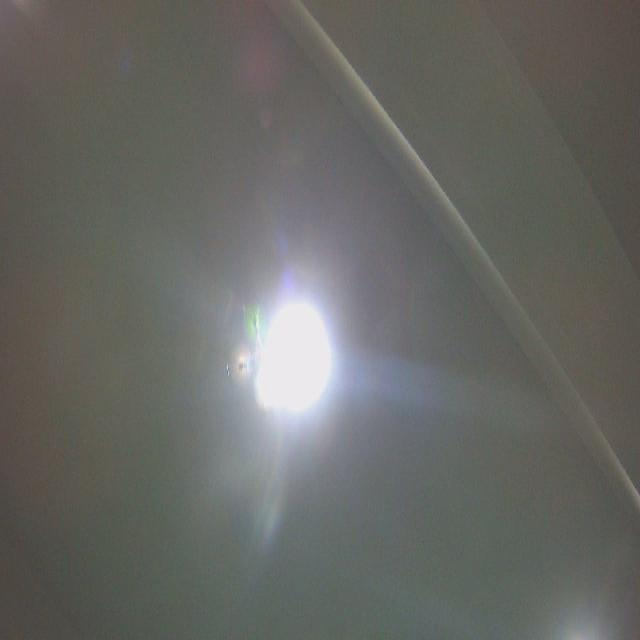drone: (226, 287, 306, 409)
